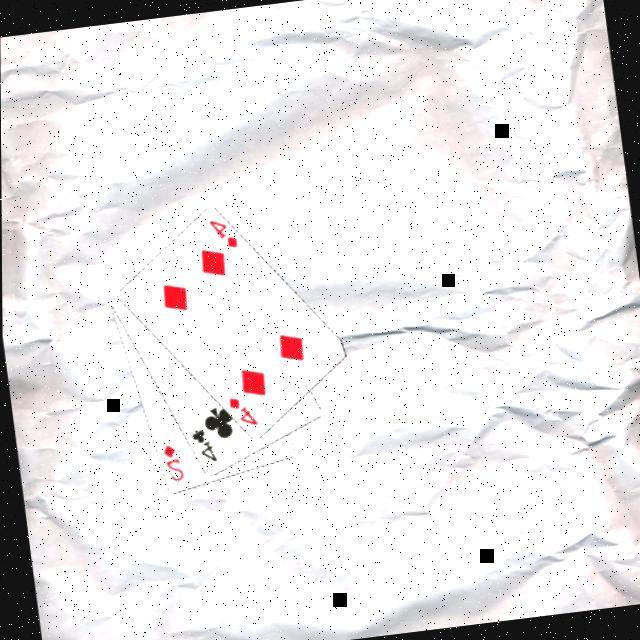2D: (159, 440, 187, 484)
4C: (188, 423, 221, 466)
4D: (226, 390, 262, 430), (206, 212, 242, 252)
